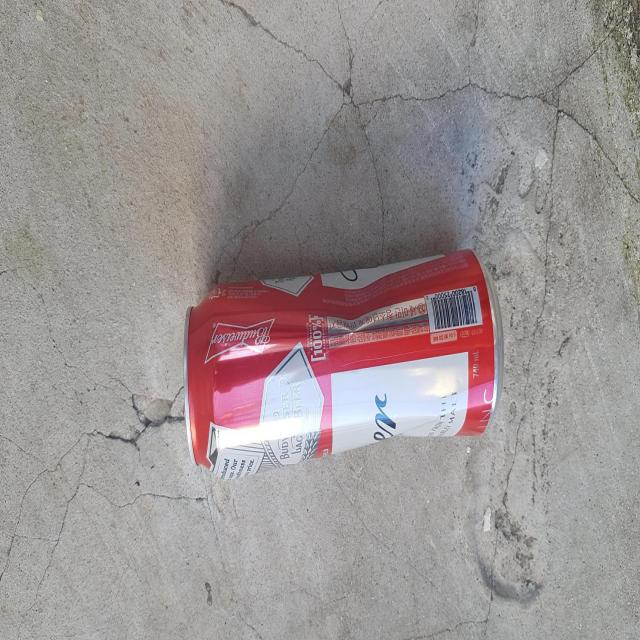can: (184, 249, 503, 479)
